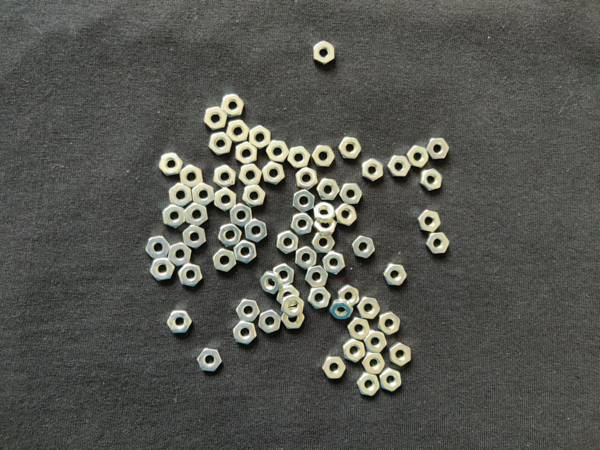nut: (150, 258, 176, 282), (322, 356, 347, 380), (185, 202, 209, 227), (209, 131, 233, 156), (167, 311, 193, 334), (236, 299, 260, 323), (260, 271, 284, 295), (168, 243, 192, 267), (213, 248, 237, 272), (180, 165, 204, 189), (197, 349, 222, 372), (178, 264, 203, 287), (146, 237, 171, 260), (222, 93, 245, 118), (357, 373, 380, 397), (362, 352, 386, 375), (378, 312, 401, 336), (348, 317, 371, 341), (233, 322, 257, 345), (277, 285, 301, 308), (417, 210, 441, 233), (183, 225, 206, 249), (163, 205, 186, 229), (234, 240, 257, 264), (214, 188, 237, 212), (287, 146, 311, 169), (169, 184, 193, 207), (159, 153, 183, 176), (262, 162, 286, 185), (204, 107, 228, 130), (380, 368, 402, 393), (230, 203, 252, 228), (357, 297, 380, 320), (306, 265, 329, 288), (219, 224, 242, 247), (339, 137, 362, 160), (243, 185, 266, 208), (259, 310, 281, 334), (426, 233, 450, 255), (277, 231, 299, 255), (245, 219, 267, 243), (312, 202, 336, 224), (293, 189, 315, 213), (317, 178, 341, 200), (266, 141, 290, 163), (249, 126, 271, 150), (314, 40, 335, 65), (389, 343, 411, 366), (364, 331, 387, 353), (282, 307, 305, 329), (283, 296, 305, 319), (273, 264, 295, 287), (308, 288, 331, 310), (384, 264, 407, 286), (353, 236, 375, 259), (420, 169, 442, 192), (323, 252, 345, 275), (335, 204, 358, 226), (406, 146, 429, 168), (362, 159, 384, 182), (214, 165, 236, 188), (239, 164, 262, 186), (227, 120, 250, 142), (296, 246, 317, 270), (193, 183, 214, 207), (338, 285, 360, 307), (292, 214, 314, 236), (340, 183, 362, 205), (296, 168, 318, 190), (344, 340, 365, 363), (312, 233, 335, 254), (388, 156, 411, 177), (312, 146, 335, 167), (236, 142, 257, 165), (427, 139, 449, 160), (330, 300, 353, 320), (314, 217, 338, 236)
